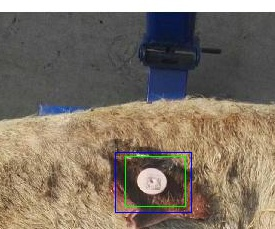text: (125, 156, 185, 206)
